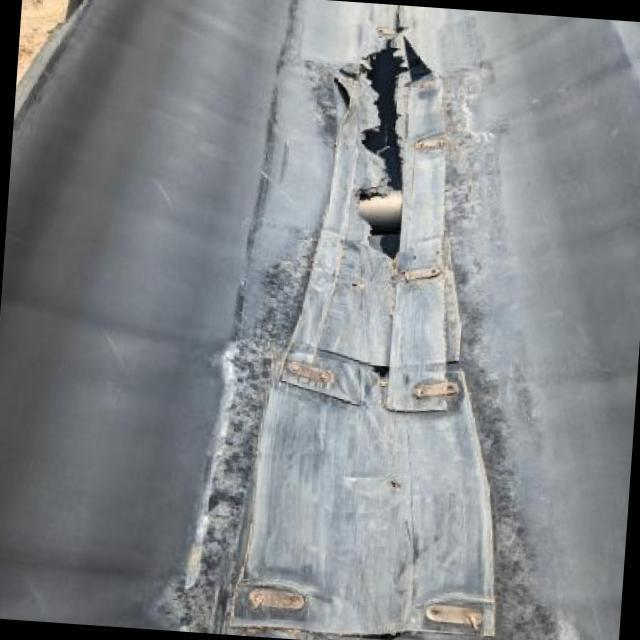Hole: (331, 14, 438, 264)
